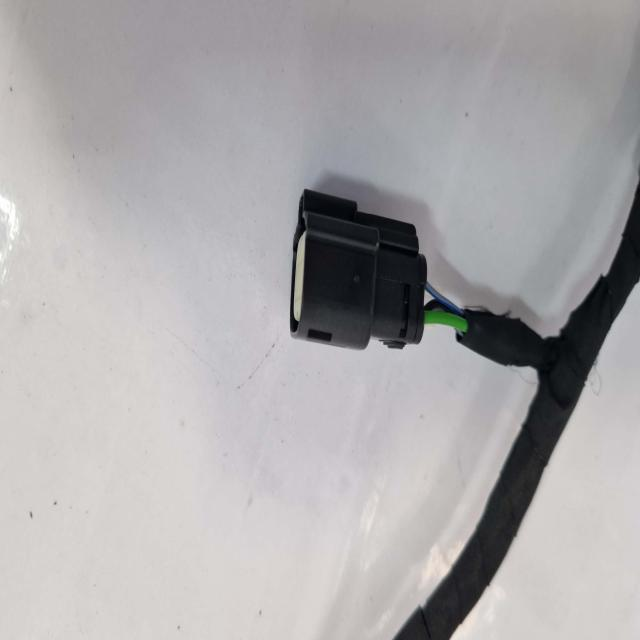Connector: (290, 188, 426, 350)
Gape: (424, 270, 472, 350)
MHEV_N11_Cable: (396, 182, 640, 639)
